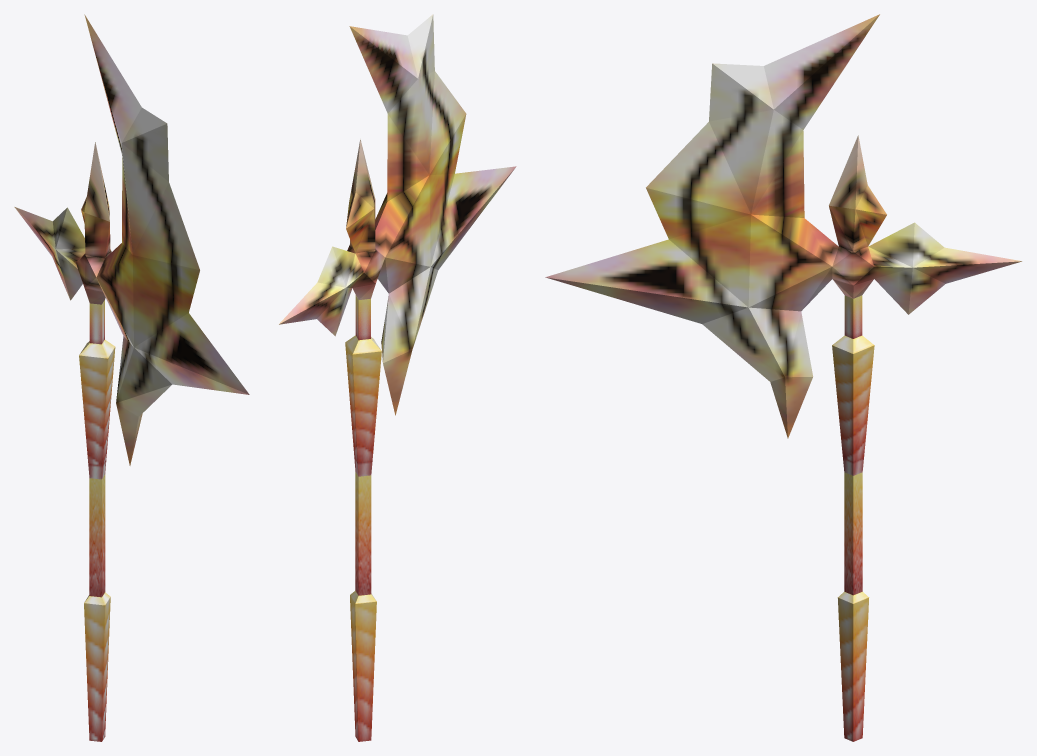
The model's file is heavyaxeman03_3.obj.
3 renders of one model, left to right at view 1: azimuth 30°, elevation 25°; view 2: azimuth 150°, elevation 25°; view 3: azimuth 270°, elevation 25°, orthographic.
Visible parts, largest first — view 1: heavyaxeman03_3; view 2: heavyaxeman03_3; view 3: heavyaxeman03_3.
Part boxes in pixels (x1,y1,x2,y2): heavyaxeman03_3: (14,14,249,741); heavyaxeman03_3: (279,14,516,741); heavyaxeman03_3: (545,14,1021,741).
Size of the model in its own units: 0.1475 by 2.77 by 1.65.
